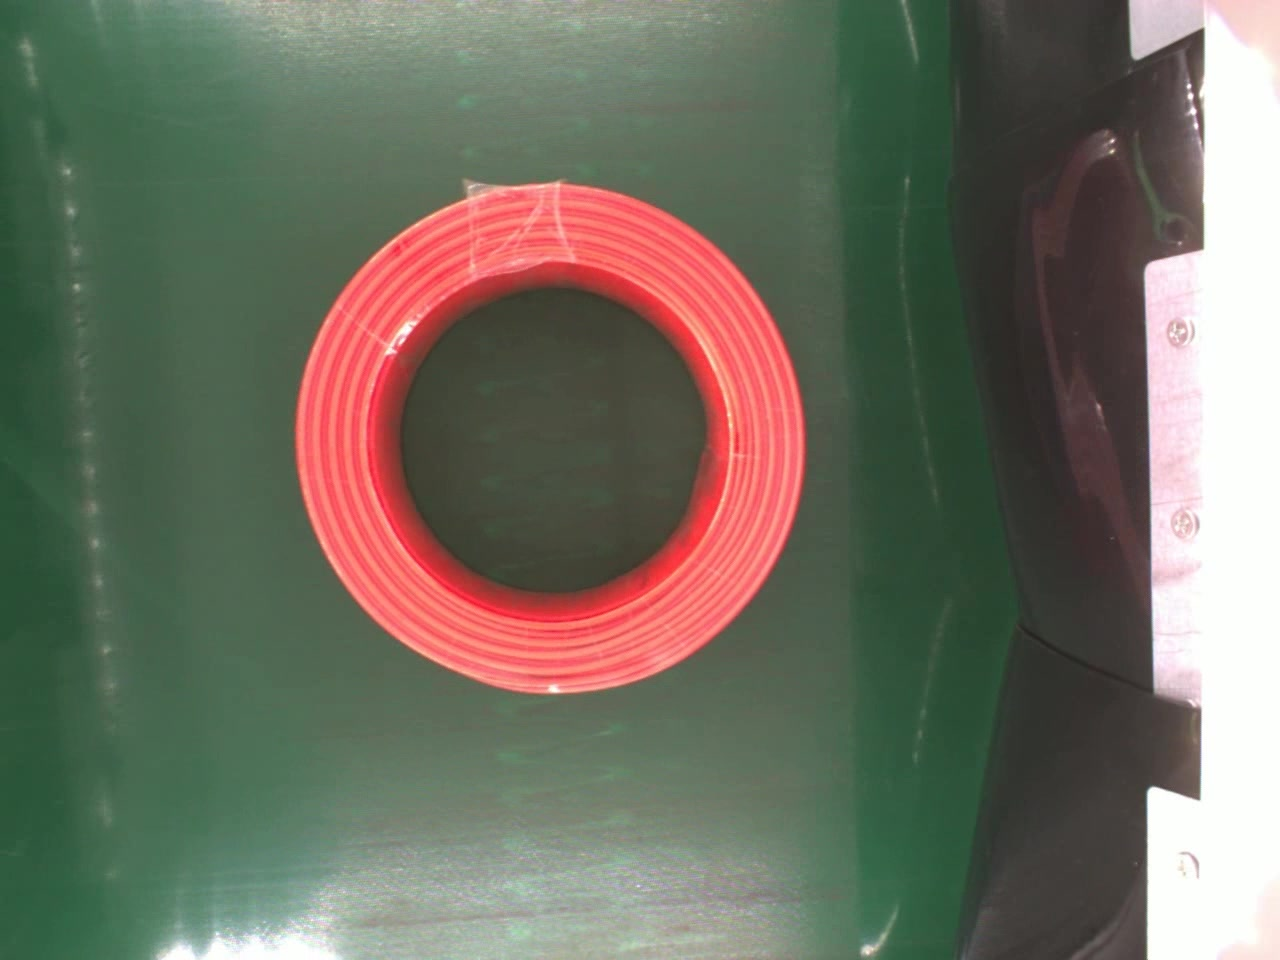red: (292, 179, 812, 703)
